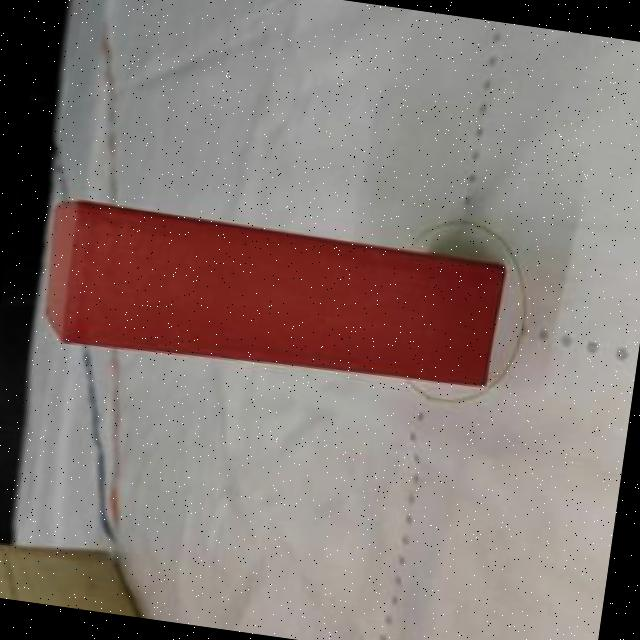redbox: (36, 197, 509, 400)
